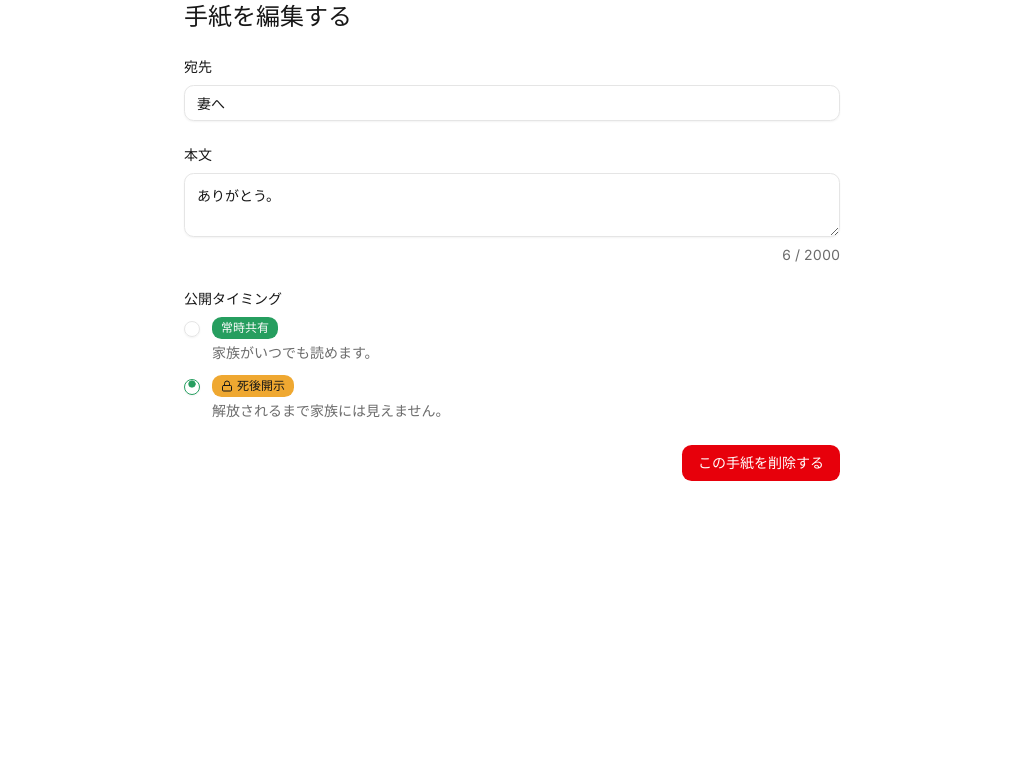
MessageForm (edit mode) › opens a ConfirmDialog when the delete button is clicked
Click the button "この手紙を削除する": click(761, 463) [682,445,840,481]
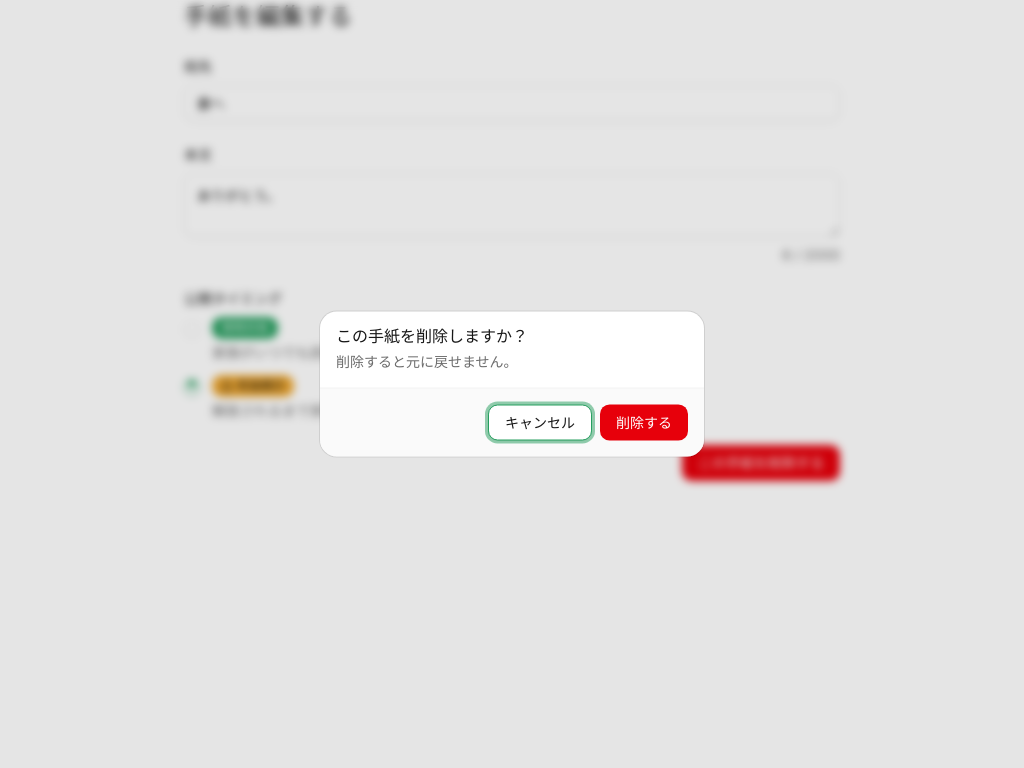
Result: the heading "この手紙を削除しますか？" is shown at [336,326,528,346]
Result: the button "削除する" is shown at [600,404,688,440]
